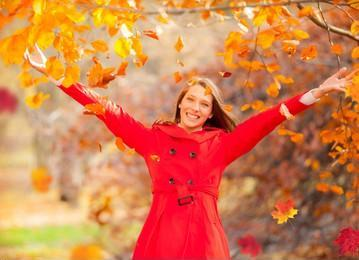face: (180, 92, 210, 128)
